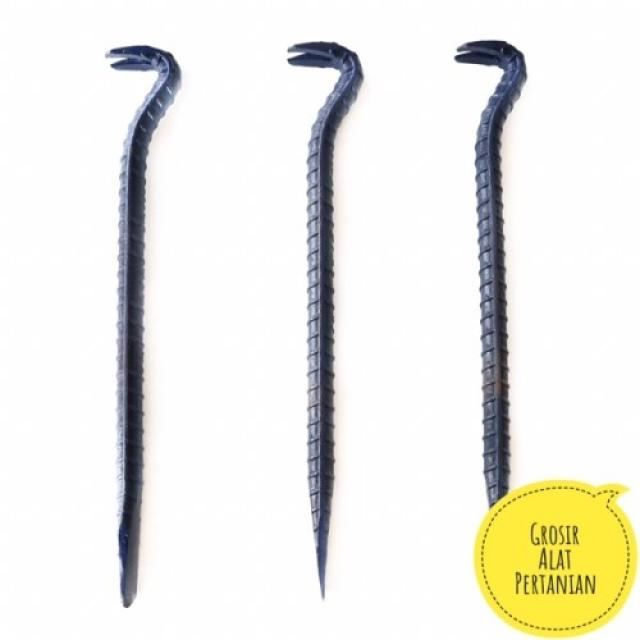Linggis: (105, 44, 183, 606)
